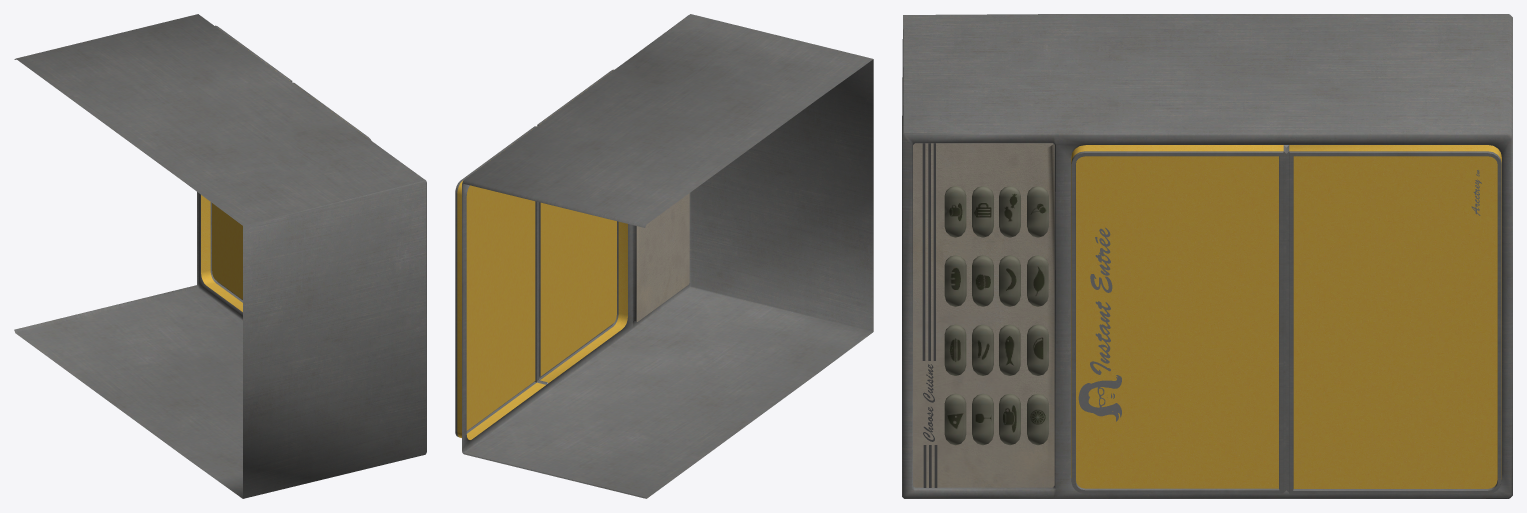
The model's file is nt_2020_food_dispenser_LOD0.obj.
3 renders of one model, left to right at view 1: azimuth 30°, elevation 25°; view 2: azimuth 150°, elevation 25°; view 3: azimuth 270°, elevation 25°, orthographic. The views are drawn at different scales.
Parts seen in each view (by area): view 1: metal_stainless_steel_editor, nt_2020_plastic_yellow; view 2: metal_stainless_steel_editor, nt_2020_plastic_yellow, pent_art_wall_creampaint02; view 3: nt_2020_plastic_yellow, metal_stainless_steel_editor, pent_art_wall_creampaint02, mtl_nt_2020_food_dispenser, mtl_nt_2020_food_disp_decals.
Part boxes in pixels (x1,y1,x2,y2): metal_stainless_steel_editor: [14, 14, 426, 498]; nt_2020_plastic_yellow: [201, 195, 242, 311]; metal_stainless_steel_editor: [455, 14, 873, 498]; nt_2020_plastic_yellow: [457, 180, 627, 439]; pent_art_wall_creampaint02: [636, 193, 689, 321]; nt_2020_plastic_yellow: [1071, 145, 1501, 488]; metal_stainless_steel_editor: [902, 14, 1512, 498]; pent_art_wall_creampaint02: [913, 143, 1054, 487]; mtl_nt_2020_food_dispenser: [944, 186, 1048, 445]; mtl_nt_2020_food_disp_decals: [922, 143, 1481, 487].
Bounding box in the file's own units: 69.69 × 94.03 × 142.
